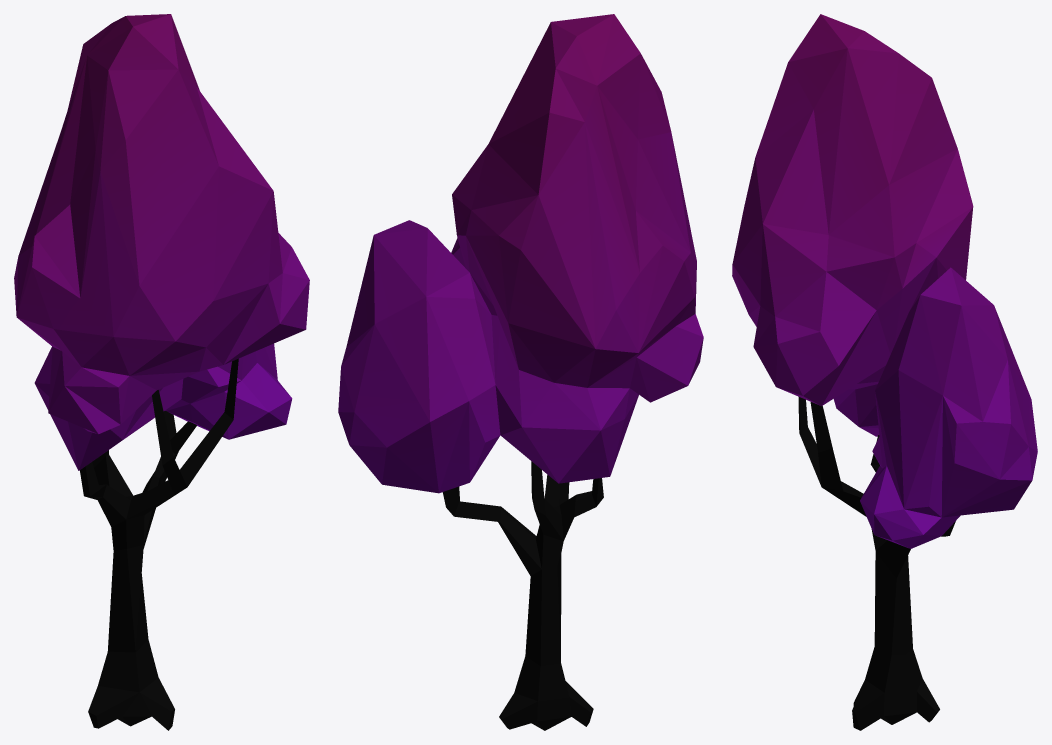
The model's file is SM_Env_Tree_Round_02.glb.
The picture shows the model from 3 angles, left to right: view 1: azimuth 30°, elevation 25°; view 2: azimuth 150°, elevation 25°; view 3: azimuth 270°, elevation 25°; orthographic projection. The views are drawn at different scales.
Visible parts, largest first — view 1: SM_Env_Tree_Round_02; view 2: SM_Env_Tree_Round_02; view 3: SM_Env_Tree_Round_02.
Boxes of the visible parts, left/top/right/bottom form: SM_Env_Tree_Round_02: left=14, top=14, right=309, bottom=730; SM_Env_Tree_Round_02: left=338, top=14, right=703, bottom=730; SM_Env_Tree_Round_02: left=732, top=14, right=1037, bottom=730.
Bounding box in the file's own units: 3.38 × 8.08 × 3.22.
